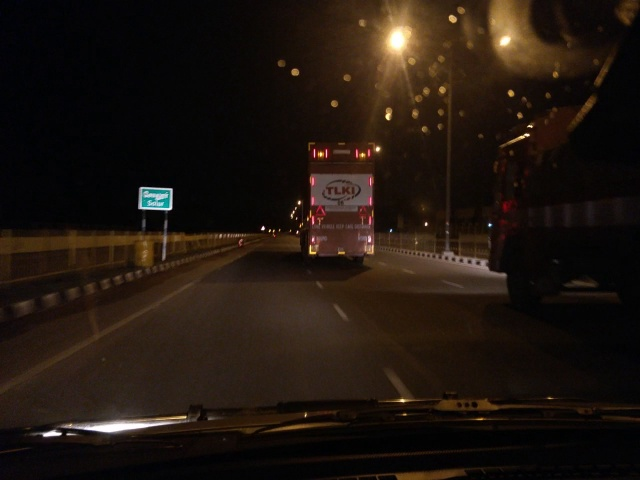bus: (296, 129, 380, 270)
truck: (486, 124, 638, 311)
